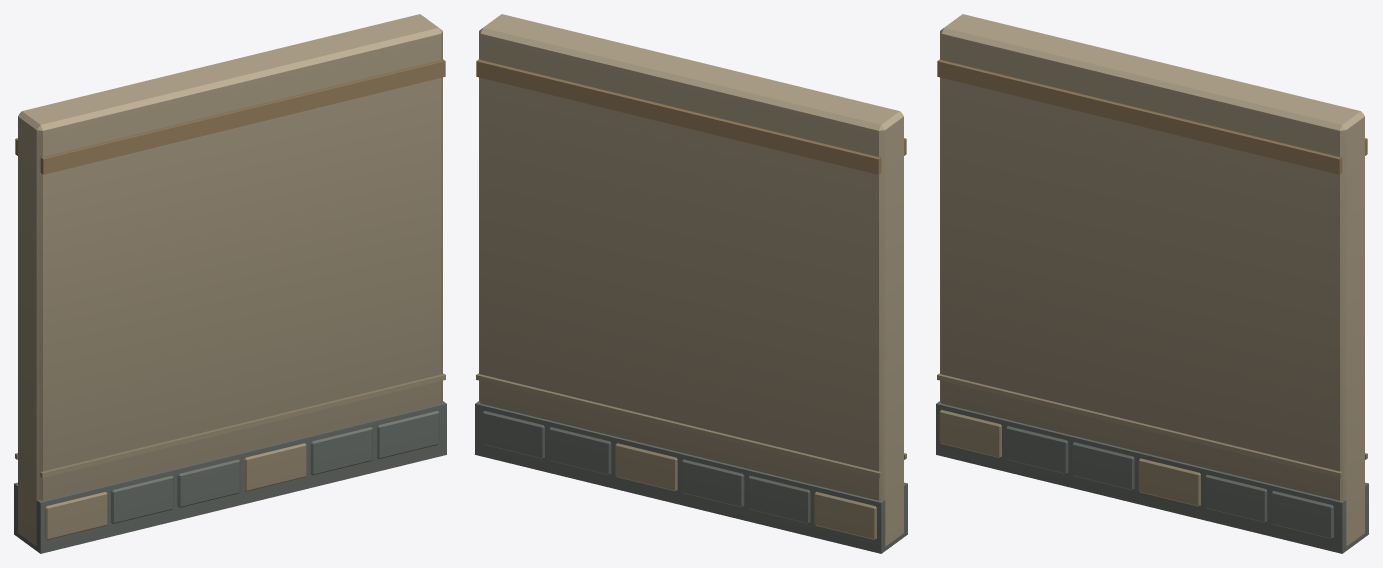
Rendered from room_wall.glb.
3 renders of one model, left to right at view 1: azimuth 30°, elevation 25°; view 2: azimuth 150°, elevation 25°; view 3: azimuth 330°, elevation 25°, orthographic.
Parts seen in each view (by area): view 1: room_wall.001; view 2: room_wall.001; view 3: room_wall.001.
Part boxes in pixels (x1,y1,x2,y2): room_wall.001: (14,14,446,553); room_wall.001: (475,14,907,553); room_wall.001: (936,14,1368,553).
Size of the model in its own units: 3 by 3 by 0.378.
